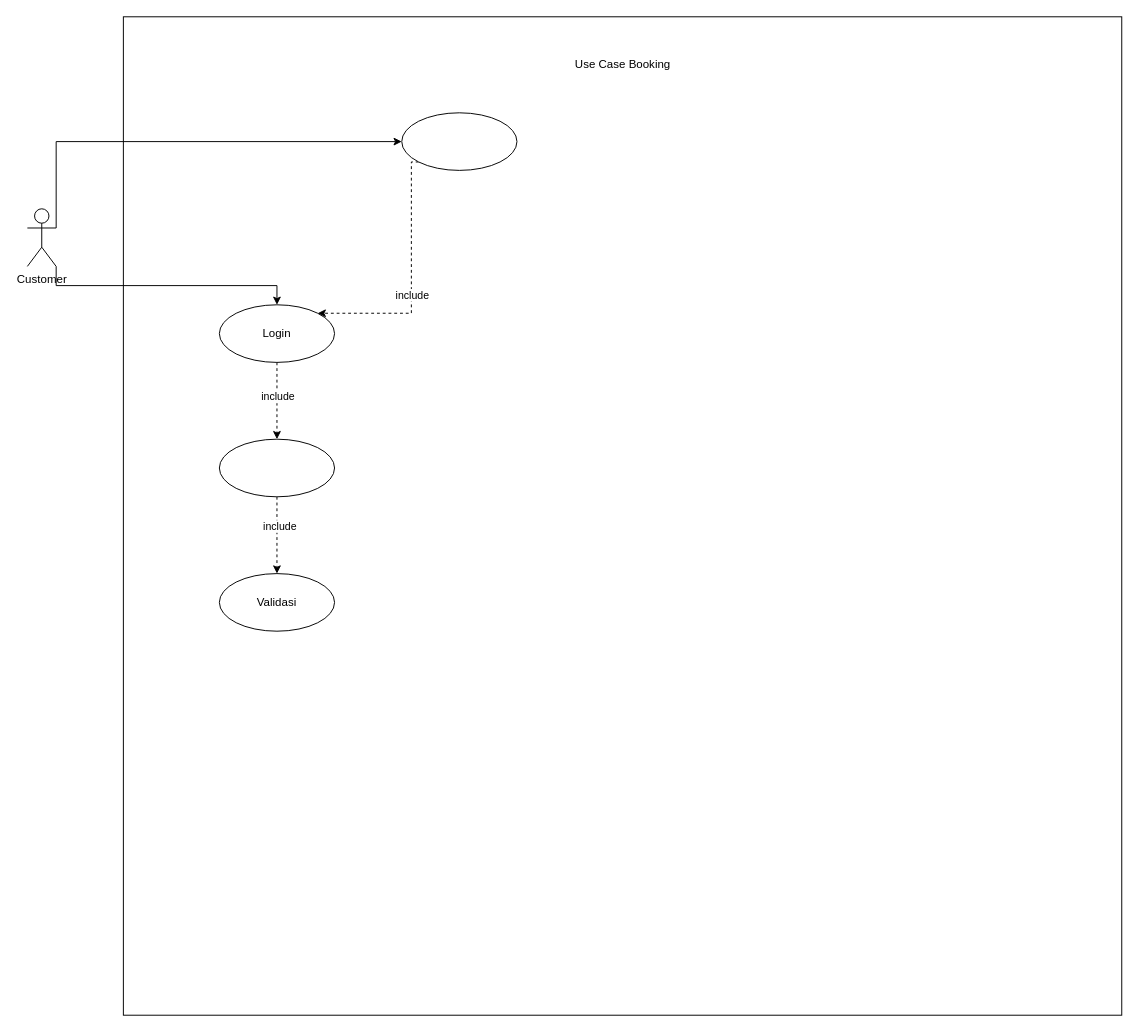
The diagram is 1139 pixels wide and 1032 high, and some of its shapes have lost their labels. The shapes that lost their labels are listed below. From the top down, each one's centre as x and y in pixels, then its label:
At (459,141): "Membuat Pesananan".
At (276,467): "Registrasi".
